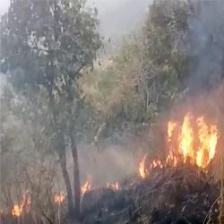fire: (7, 178, 128, 215), (160, 117, 222, 175), (133, 151, 159, 184)
